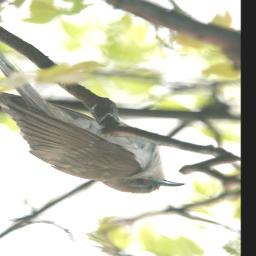Cuckoo: (0, 27, 185, 194)
